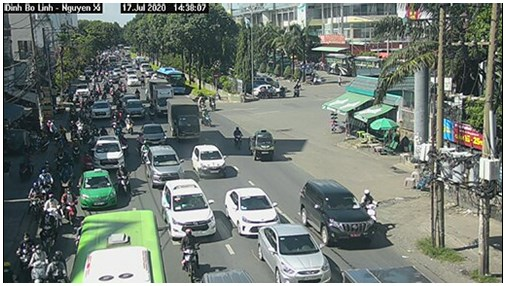xe_buyt: (155, 66, 186, 95)
xe_hoi: (300, 181, 374, 246), (256, 223, 333, 283), (161, 179, 218, 240), (225, 187, 284, 236), (145, 145, 186, 190), (192, 144, 226, 180), (137, 122, 168, 147), (122, 98, 146, 121), (91, 100, 112, 120)
xe_may: (178, 228, 200, 282), (27, 244, 50, 283), (13, 233, 36, 271), (362, 189, 382, 229), (60, 186, 79, 228), (46, 251, 69, 283), (26, 181, 46, 217), (42, 194, 63, 227), (39, 210, 57, 248), (36, 170, 55, 201), (115, 165, 133, 195), (61, 163, 77, 193), (78, 152, 94, 172), (125, 113, 136, 136), (39, 159, 53, 177), (67, 102, 79, 123), (234, 126, 243, 151), (201, 108, 212, 127), (71, 136, 80, 159), (140, 140, 149, 163), (56, 147, 66, 165), (148, 102, 157, 121), (98, 125, 111, 138), (90, 121, 98, 140), (82, 122, 89, 143), (115, 120, 123, 138), (209, 92, 216, 111), (200, 94, 206, 112), (135, 87, 141, 101)
xe_tai: (166, 97, 200, 141), (145, 78, 173, 115), (247, 131, 275, 162)
